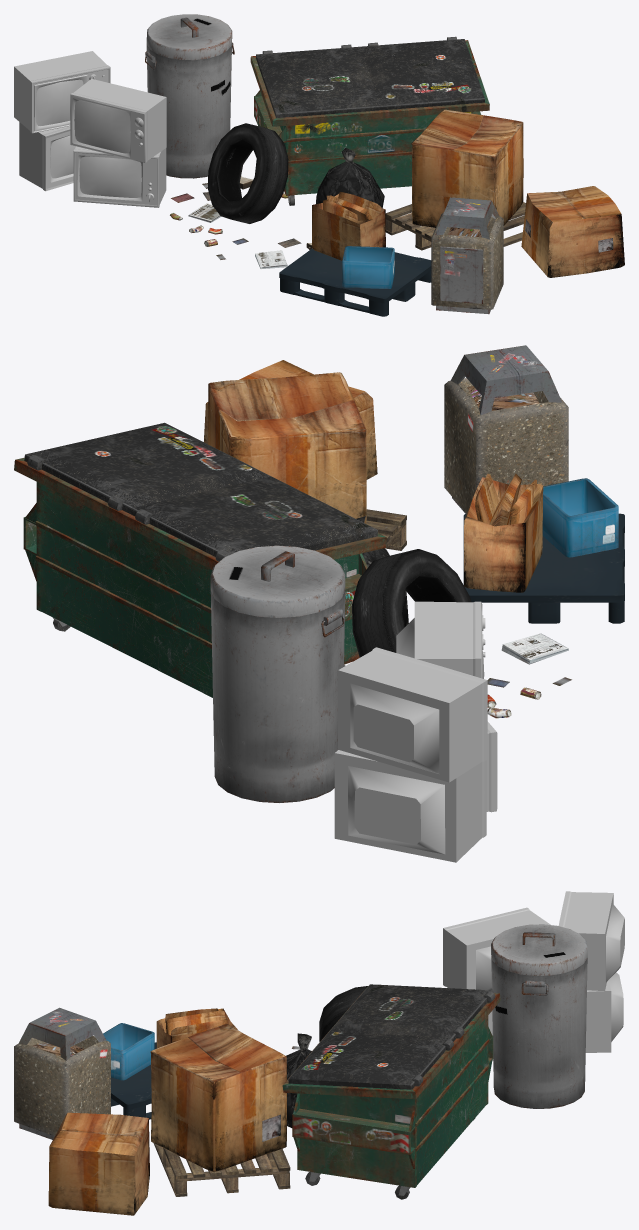
3 renders of one model, top to bottom at view 1: azimuth 30°, elevation 25°; view 2: azimuth 150°, elevation 25°; view 3: azimuth 270°, elevation 25°, orthographic. The views are drawn at different scales.
Visible parts, largest first — view 1: DP_TNR_TrashCont_1, DP_TNR_TrashStuff_1_Street_trash_can_1_0, DP_TNR_CardBox_3_DP_TNR_CardBox_0, DP_TNR_CardBox_2_DP_TNR_CardBox_0, SP_TNR_Trashbin_1, DP_TNR_TVsOld_4_TP_OldTVs1_0, DP_TNR_TireOld_1, DP_TNR_TVsOld_2_TP_OldTVs1_0, DP_TNR_Pallet_2_DP_TNR_Pallet_1-2_0, DP_TNR_TVsOld_3_TP_OldTVs1_0, DP_TNR_CardBox_1_DP_TNR_CardBox_0, DP_TNR_TVsOld_1_TP_OldTVs1_0 (+4 smaller); view 2: DP_TNR_TrashCont_1, DP_TNR_TrashStuff_1_Street_trash_can_1_0, DP_TNR_CardBox_3_DP_TNR_CardBox_0, DP_TNR_TVsOld_2_TP_OldTVs1_0, SP_TNR_Trashbin_1, DP_TNR_TVsOld_1_TP_OldTVs1_0, DP_TNR_CardBox_1_DP_TNR_CardBox_0, DP_TNR_TireOld_1, DP_TNR_Pallet_2_DP_TNR_Pallet_1-2_0, DP_TNR_TVsOld_4_TP_OldTVs1_0, DP_TNR_Plasticbox_1, DP_TNR_CardBox_2_DP_TNR_CardBox_0 (+3 smaller); view 3: DP_TNR_TrashCont_1, DP_TNR_TrashStuff_1_Street_trash_can_1_0, DP_TNR_CardBox_3_DP_TNR_CardBox_0, SP_TNR_Trashbin_1, DP_TNR_CardBox_2_DP_TNR_CardBox_0, DP_TNR_TVsOld_2_TP_OldTVs1_0, DP_TNR_TVsOld_4_TP_OldTVs1_0, DP_TNR_Pallet_1_DP_TNR_Pallet_1-2_0, DP_TNR_TVsOld_1_TP_OldTVs1_0, DP_TNR_Plasticbox_1, DP_TNR_CardBox_1_DP_TNR_CardBox_0, DP_TNR_Pallet_2_DP_TNR_Pallet_1-2_0 (+2 smaller).
Part boxes in pixels (x1,y1,x2,y2): DP_TNR_TrashCont_1: (250, 36, 489, 205); DP_TNR_TrashStuff_1_Street_trash_can_1_0: (145, 14, 234, 178); DP_TNR_CardBox_3_DP_TNR_CardBox_0: (411, 109, 523, 227); DP_TNR_CardBox_2_DP_TNR_CardBox_0: (521, 186, 624, 277); SP_TNR_Trashbin_1: (431, 197, 503, 314); DP_TNR_TVsOld_4_TP_OldTVs1_0: (70, 78, 166, 162); DP_TNR_TireOld_1: (207, 123, 288, 223); DP_TNR_TVsOld_2_TP_OldTVs1_0: (14, 51, 110, 133); DP_TNR_Pallet_2_DP_TNR_Pallet_1-2_0: (279, 248, 431, 316); DP_TNR_TVsOld_3_TP_OldTVs1_0: (73, 146, 166, 207); DP_TNR_CardBox_1_DP_TNR_CardBox_0: (312, 191, 385, 260); DP_TNR_TVsOld_1_TP_OldTVs1_0: (19, 122, 75, 191); DP_TNR_TrashCont_1: (14, 422, 386, 697); DP_TNR_TrashStuff_1_Street_trash_can_1_0: (210, 545, 345, 802); DP_TNR_CardBox_3_DP_TNR_CardBox_0: (208, 372, 366, 523); DP_TNR_TVsOld_2_TP_OldTVs1_0: (338, 647, 487, 782); SP_TNR_Trashbin_1: (444, 345, 568, 513); DP_TNR_TVsOld_1_TP_OldTVs1_0: (334, 750, 486, 862); DP_TNR_CardBox_1_DP_TNR_CardBox_0: (464, 473, 543, 592); DP_TNR_TireOld_1: (352, 549, 471, 657); DP_TNR_Pallet_2_DP_TNR_Pallet_1-2_0: (463, 513, 624, 623); DP_TNR_TVsOld_4_TP_OldTVs1_0: (396, 601, 485, 678); DP_TNR_Plasticbox_1: (542, 478, 618, 557); DP_TNR_CardBox_2_DP_TNR_CardBox_0: (204, 360, 377, 479); DP_TNR_TrashCont_1: (282, 984, 500, 1199); DP_TNR_TrashStuff_1_Street_trash_can_1_0: (491, 924, 587, 1108); DP_TNR_CardBox_3_DP_TNR_CardBox_0: (150, 1024, 286, 1172); SP_TNR_Trashbin_1: (14, 1007, 110, 1139); DP_TNR_CardBox_2_DP_TNR_CardBox_0: (48, 1112, 149, 1215); DP_TNR_TVsOld_2_TP_OldTVs1_0: (558, 891, 624, 991); DP_TNR_TVsOld_4_TP_OldTVs1_0: (443, 907, 550, 990); DP_TNR_Pallet_1_DP_TNR_Pallet_1-2_0: (153, 1143, 290, 1196); DP_TNR_TVsOld_1_TP_OldTVs1_0: (585, 972, 623, 1052); DP_TNR_Plasticbox_1: (103, 1023, 154, 1080); DP_TNR_CardBox_1_DP_TNR_CardBox_0: (156, 1008, 237, 1048); DP_TNR_Pallet_2_DP_TNR_Pallet_1-2_0: (111, 1042, 156, 1119).
Size of the model in its own units: 3.49 by 1.24 by 4.38.
